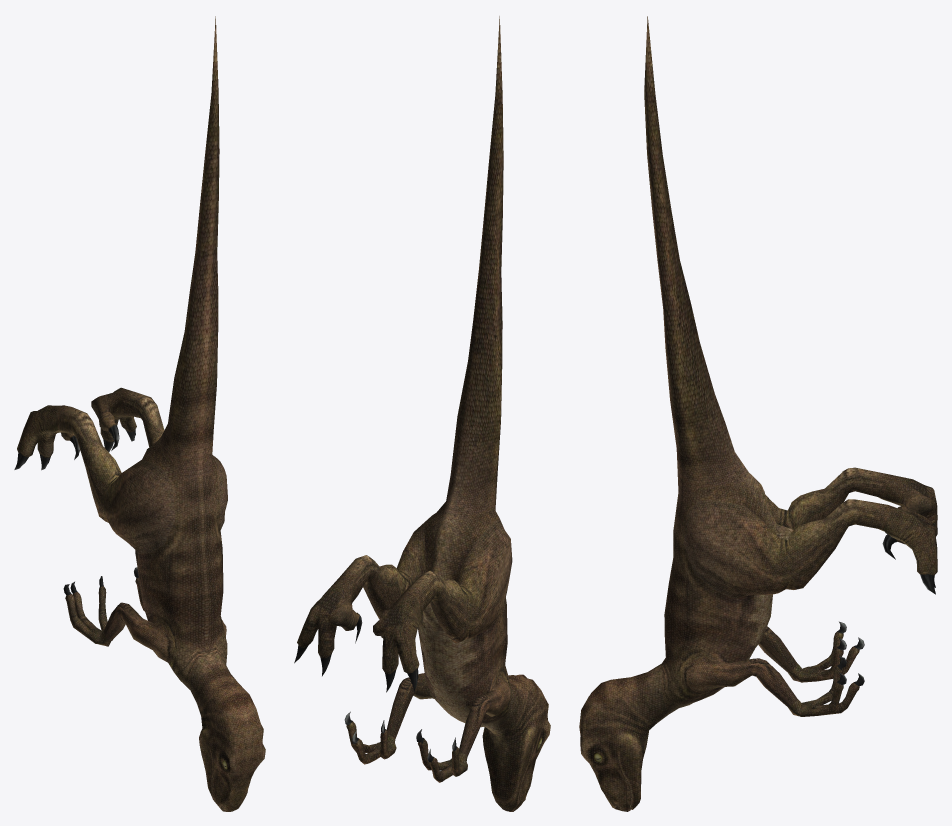
The model's file is raptor.obj.
3 views of the same model, side by side, from view 1: azimuth 30°, elevation 25°; view 2: azimuth 150°, elevation 25°; view 3: azimuth 270°, elevation 25° (orthographic). The views are drawn at different scales.
Parts seen in each view (by area): view 1: raptor_ori.001; view 2: raptor_ori.001; view 3: raptor_ori.001.
Part boxes in pixels (left/top/right/bottom): raptor_ori.001: left=14, top=16, right=265, bottom=811; raptor_ori.001: left=294, top=16, right=550, bottom=811; raptor_ori.001: left=579, top=16, right=937, bottom=811.
Size of the model in its own units: 32.97 by 211 by 85.99.
1 material, 1 textured.
